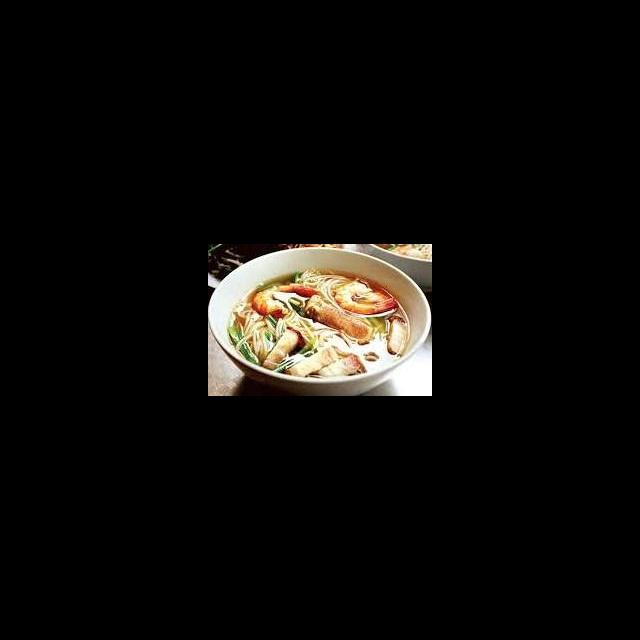bun: (231, 309, 288, 362), (301, 271, 351, 315)
ca: (302, 292, 375, 347)
thit heo quay: (259, 324, 308, 372), (282, 344, 342, 380), (312, 352, 364, 381), (383, 313, 411, 357)
tom: (250, 280, 322, 320), (331, 276, 400, 316)
